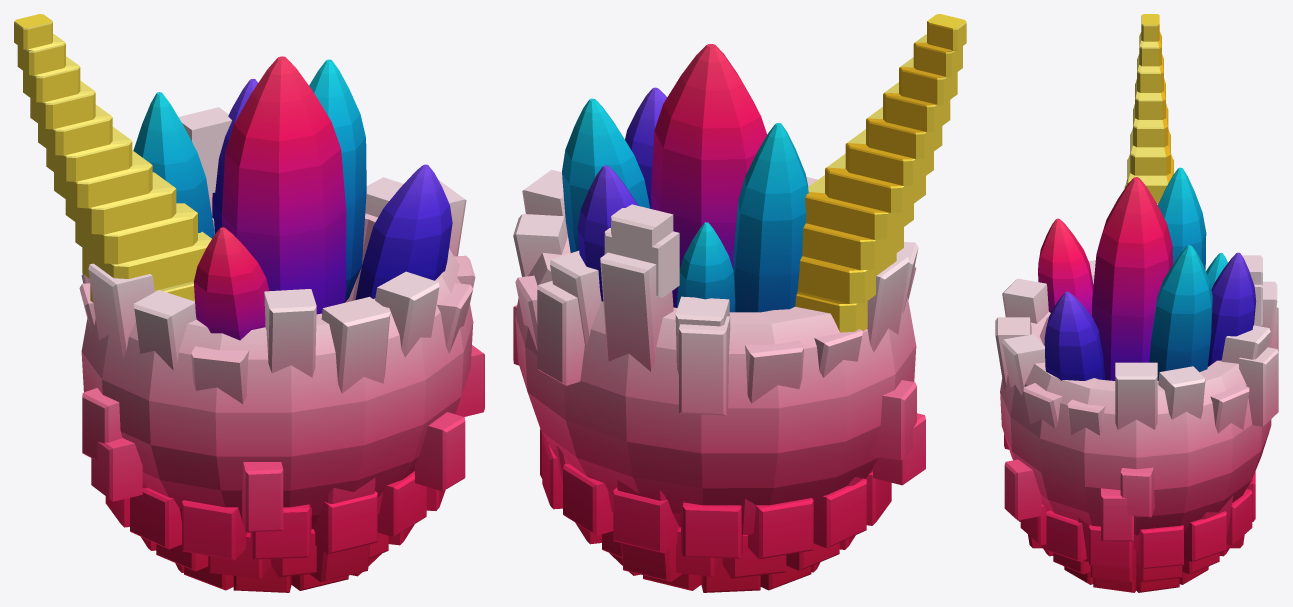
File: Prism Unicorn Egg.fbx
The picture shows the model from 3 angles, left to right: view 1: azimuth 30°, elevation 25°; view 2: azimuth 150°, elevation 25°; view 3: azimuth 270°, elevation 25°; orthographic projection. The views are drawn at different scales.
Parts seen in each view (by area): view 1: Open rose bowl, Single golden horn | stepped taper, Central tall fuchsia prism, Right short violet prism, Shell | upright stave 01, Left short fuchsia prism, Right rear cyan prism, Left rear cyan prism, Shell | upright stave 16, Shell | upright stave 02, Shell | upright stave 13, Shell | upright stave 14 (+21 smaller); view 2: Open rose bowl, Single golden horn | stepped taper, Central tall fuchsia prism, Left rear cyan prism, Shell | upright stave 09, Right rear cyan prism, Shell | relief tile 8, Shell | relief tile 7, Small cyan shoulder, Shell | lower step 3.10, Shell | upright stave 11, Back violet prism (+23 smaller); view 3: Open rose bowl, Central tall fuchsia prism, Right rear cyan prism, Single golden horn | stepped taper, Right short violet prism, Left short fuchsia prism, Back violet prism, Left rear cyan prism, Shell | upright stave 05, Shell | relief tile 7, Shell | upright stave 06, Shell | relief tile 2 (+24 smaller).
Boxes of the visible parts, x1,y1,x2,y2 form: Open rose bowl: [81, 213, 473, 532]; Single golden horn | stepped taper: [14, 14, 211, 308]; Central tall fuchsia prism: [221, 56, 346, 314]; Right short violet prism: [355, 164, 452, 299]; Shell | upright stave 01: [310, 296, 390, 582]; Left short fuchsia prism: [193, 227, 269, 340]; Right rear cyan prism: [309, 59, 366, 302]; Left rear cyan prism: [133, 92, 214, 238]; Shell | upright stave 16: [264, 289, 316, 555]; Shell | upright stave 02: [375, 271, 439, 513]; Shell | upright stave 13: [88, 263, 154, 488]; Shell | upright stave 14: [134, 290, 196, 521]; Open rose bowl: [515, 236, 916, 527]; Single golden horn | stepped taper: [795, 14, 966, 332]; Central tall fuchsia prism: [651, 44, 767, 307]; Left rear cyan prism: [733, 123, 808, 312]; Shell | upright stave 09: [600, 252, 682, 581]; Right rear cyan prism: [562, 98, 650, 252]; Shell | relief tile 8: [679, 316, 730, 415]; Shell | relief tile 7: [537, 281, 584, 385]; Small cyan shoulder: [677, 222, 735, 312]; Shell | lower step 3.10: [748, 498, 813, 559]; Shell | upright stave 11: [740, 340, 803, 535]; Back violet prism: [577, 165, 638, 301]; Open rose bowl: [1000, 312, 1271, 535]; Central tall fuchsia prism: [1092, 177, 1172, 380]; Right rear cyan prism: [1149, 245, 1212, 380]; Single golden horn | stepped taper: [1124, 14, 1173, 204]; Right short violet prism: [1044, 291, 1104, 380]; Left short fuchsia prism: [1038, 218, 1093, 316]; Back violet prism: [1207, 252, 1256, 366]; Left rear cyan prism: [1157, 167, 1206, 270]; Shell | upright stave 05: [1115, 362, 1157, 550]; Shell | relief tile 7: [1239, 347, 1278, 426]; Shell | upright stave 06: [1158, 366, 1205, 419]; Shell | relief tile 2: [1004, 459, 1041, 520].
Size of the model in its own units: 250 by 317 by 180.
8 materials, 4 textured.
